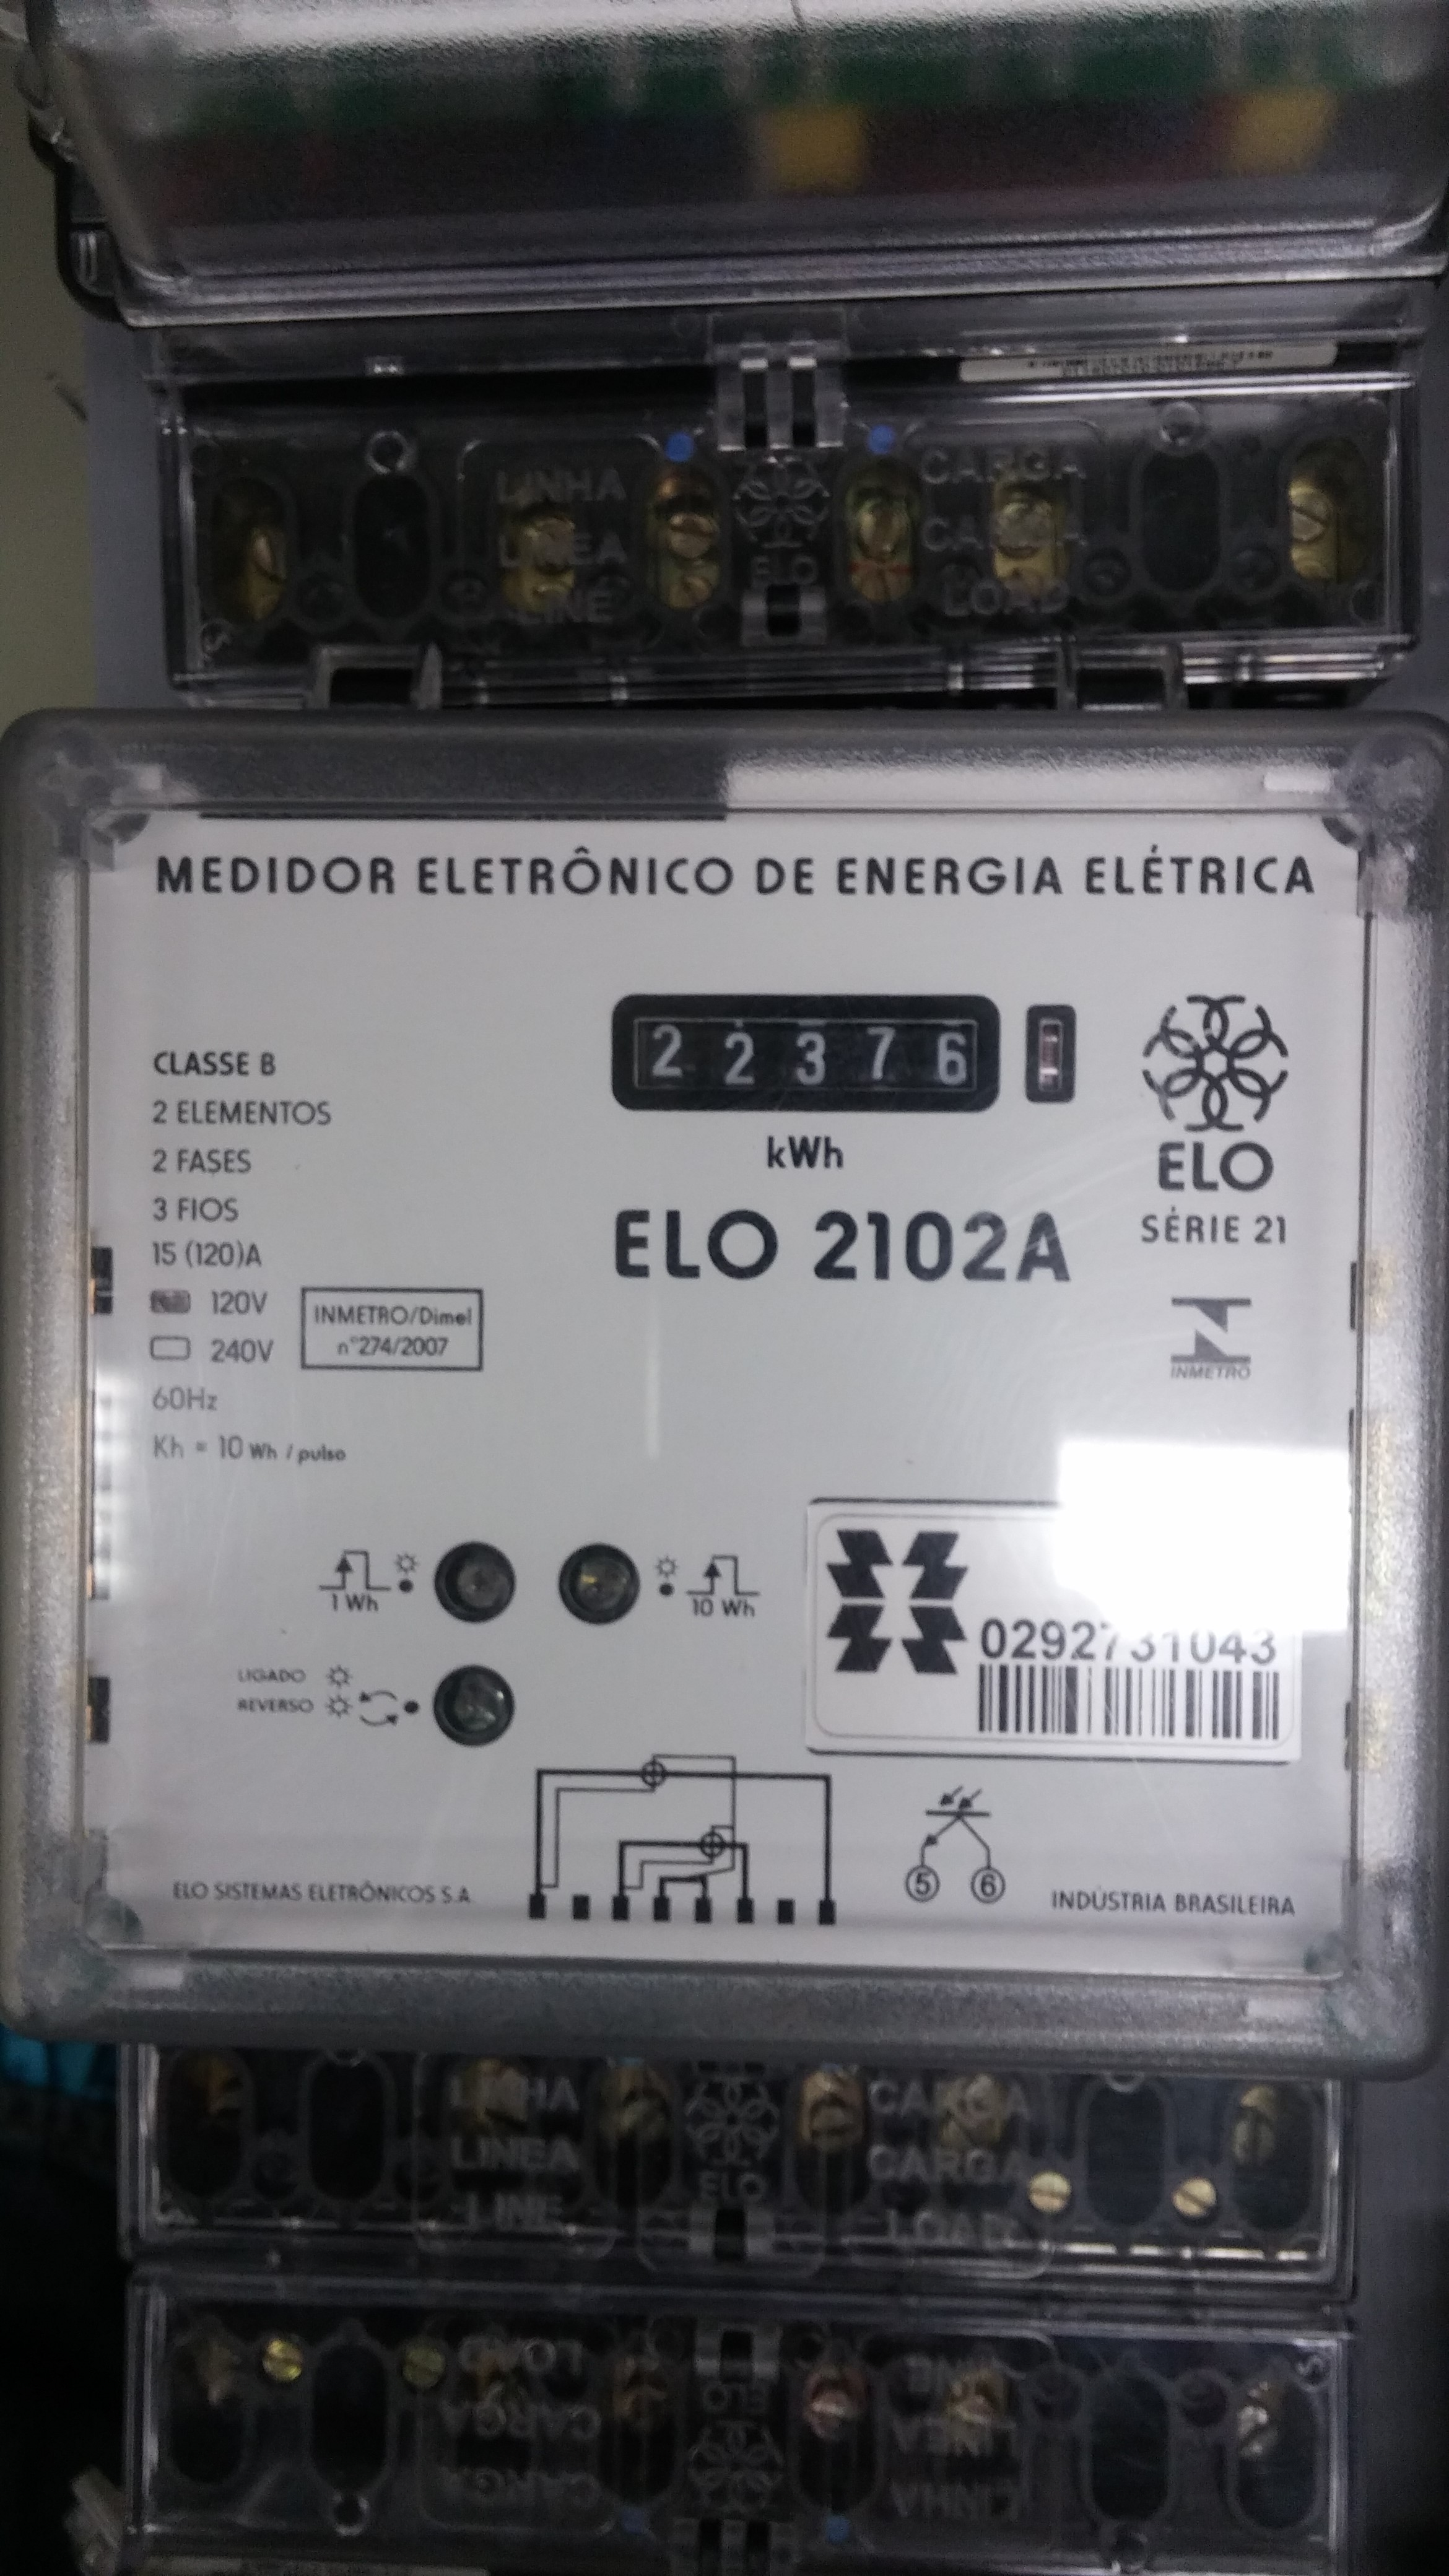counter2: (607, 985, 1016, 1118)
